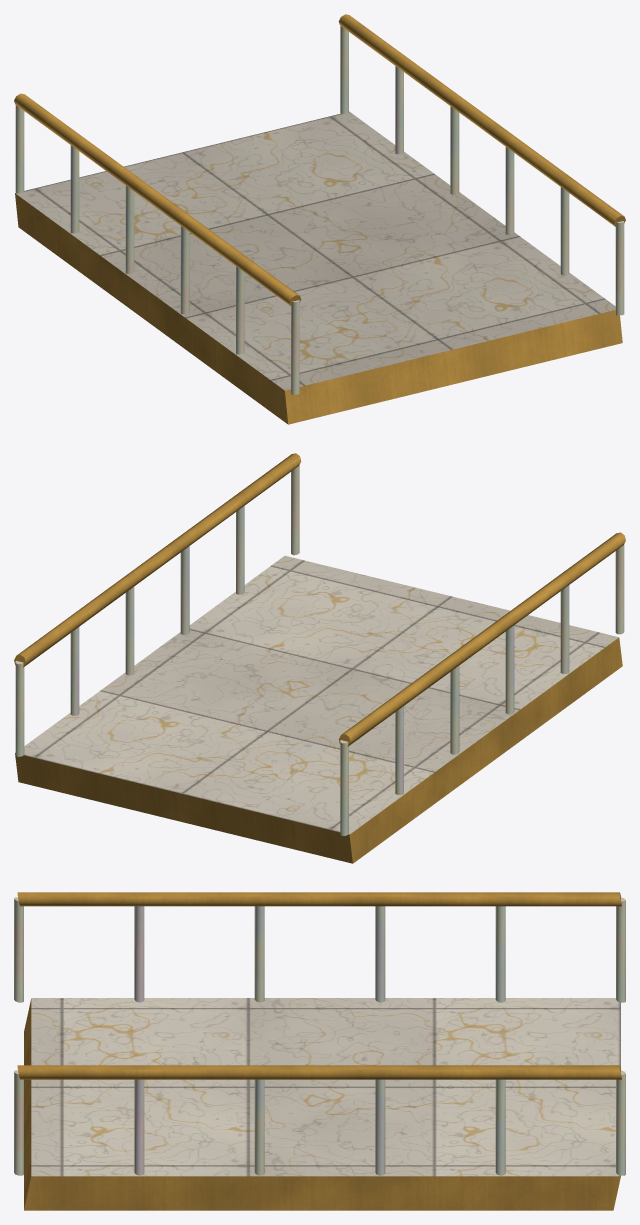
Rendered from lb_bridge.glb.
3 renders of one model, top to bottom at view 1: azimuth 30°, elevation 25°; view 2: azimuth 150°, elevation 25°; view 3: azimuth 270°, elevation 25°, orthographic. The views are drawn at different scales.
Parts seen in each view (by area): view 1: lb_bridge; view 2: lb_bridge; view 3: lb_bridge.
Boxes of the visible parts, <box> form: lb_bridge: <box>14,14,625,424</box>; lb_bridge: <box>14,453,625,863</box>; lb_bridge: <box>14,892,625,1210</box>.
Bounding box in the file's own units: 3.42 × 1.27 × 4.93.
Materials: 3 (3 with a texture image).
